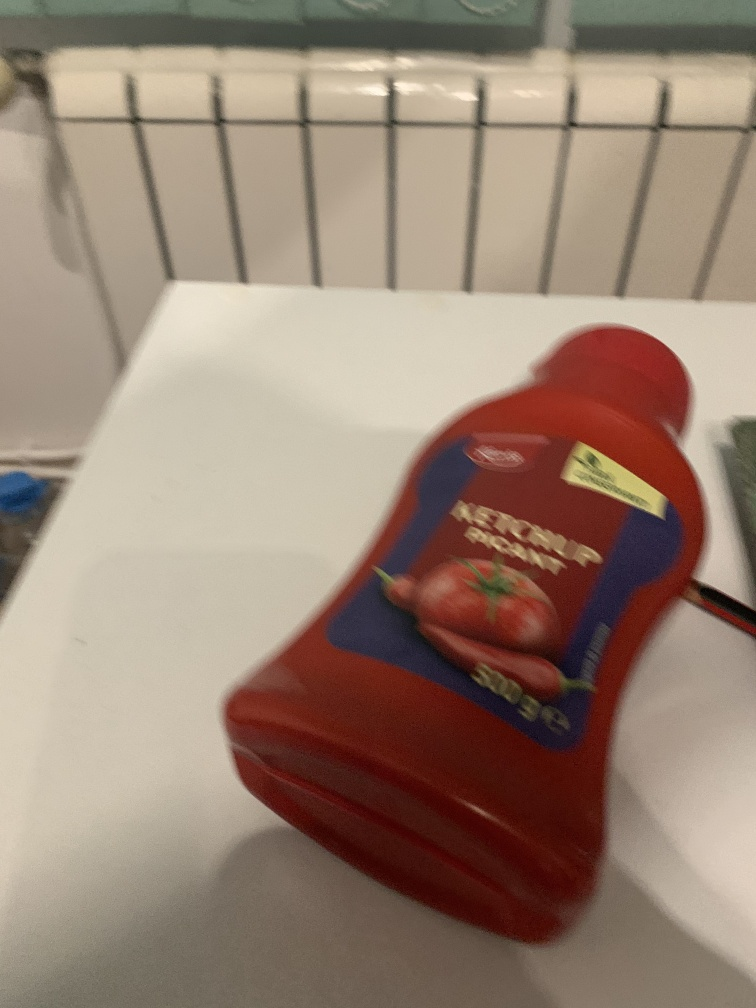ketchup: (223, 312, 720, 941)
